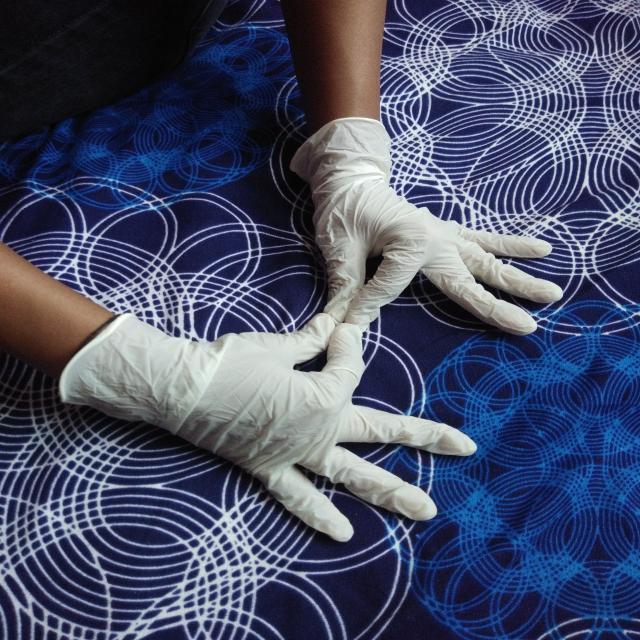glove_hand: (44, 313, 486, 546), (282, 111, 564, 350)
